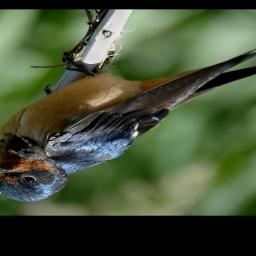Swallow: (0, 26, 256, 202)
